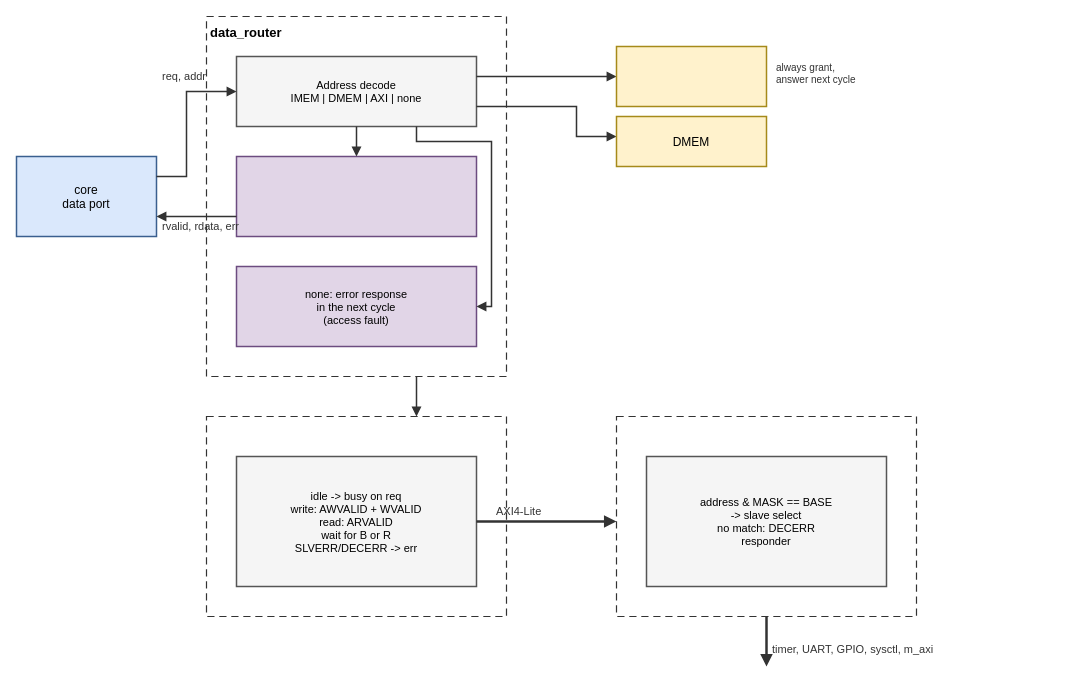
Image size: 1089x680. Some labels were removed from this diagram. Each missing label, with the box of its shape:
axil_xbar: (615, 415, 917, 617)
IMEM port B: (615, 45, 767, 107)
obi_axil_bridge: (205, 415, 507, 617)
pend_q: target of the outstanding request (routes the response): (235, 155, 477, 237)
